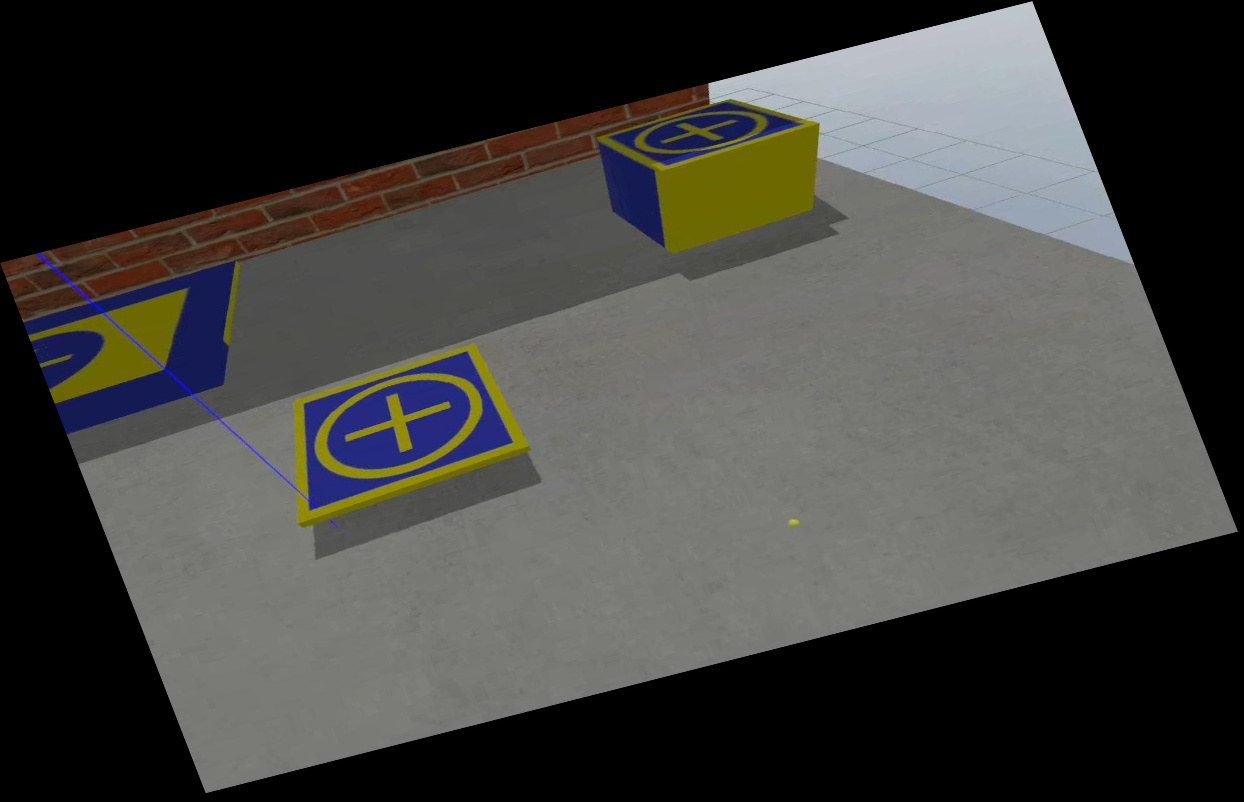large_base: (20, 258, 288, 435)
small_base: (247, 338, 542, 531), (593, 78, 826, 186)
